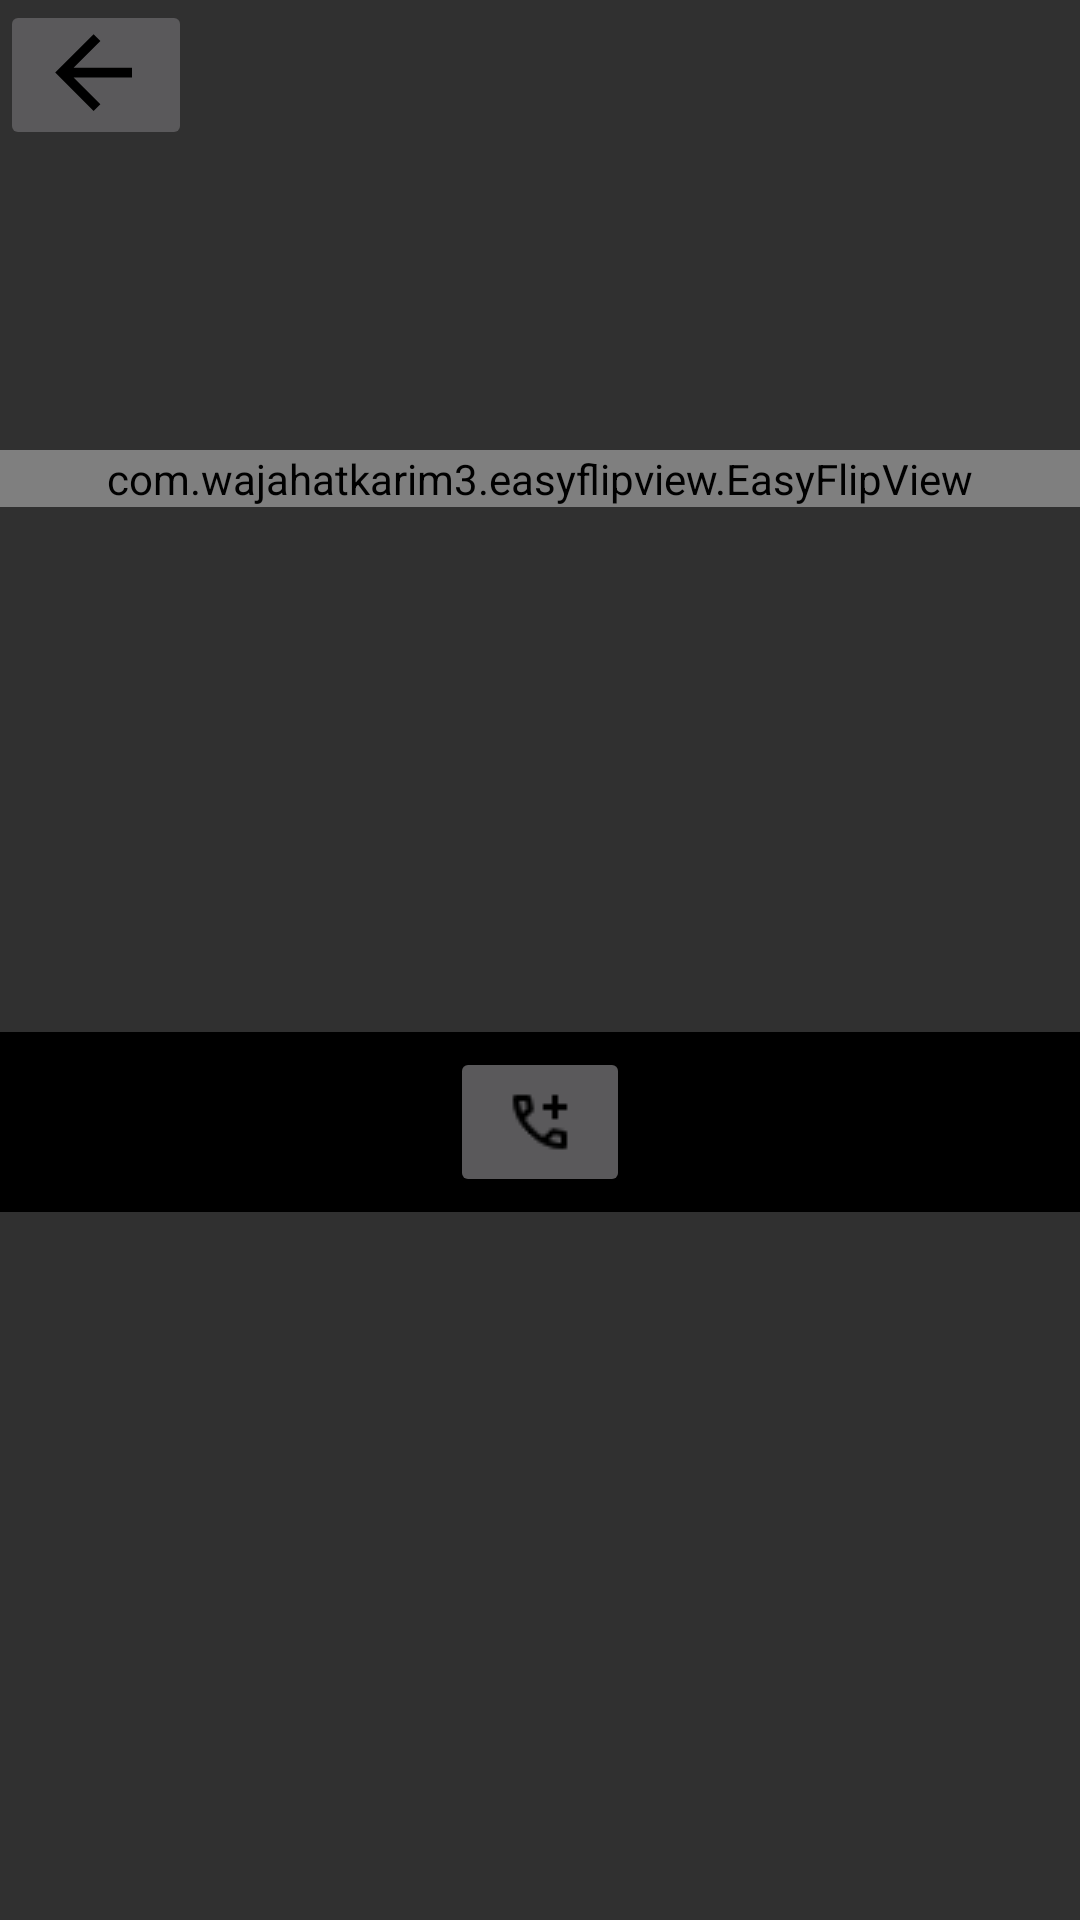

Screen size 1080w x 1920h. Icon name, then its center in pixels as point (x, y):
뒤로가기 버튼: point (96, 75)
전화번호 저장버튼: point (540, 1122)
